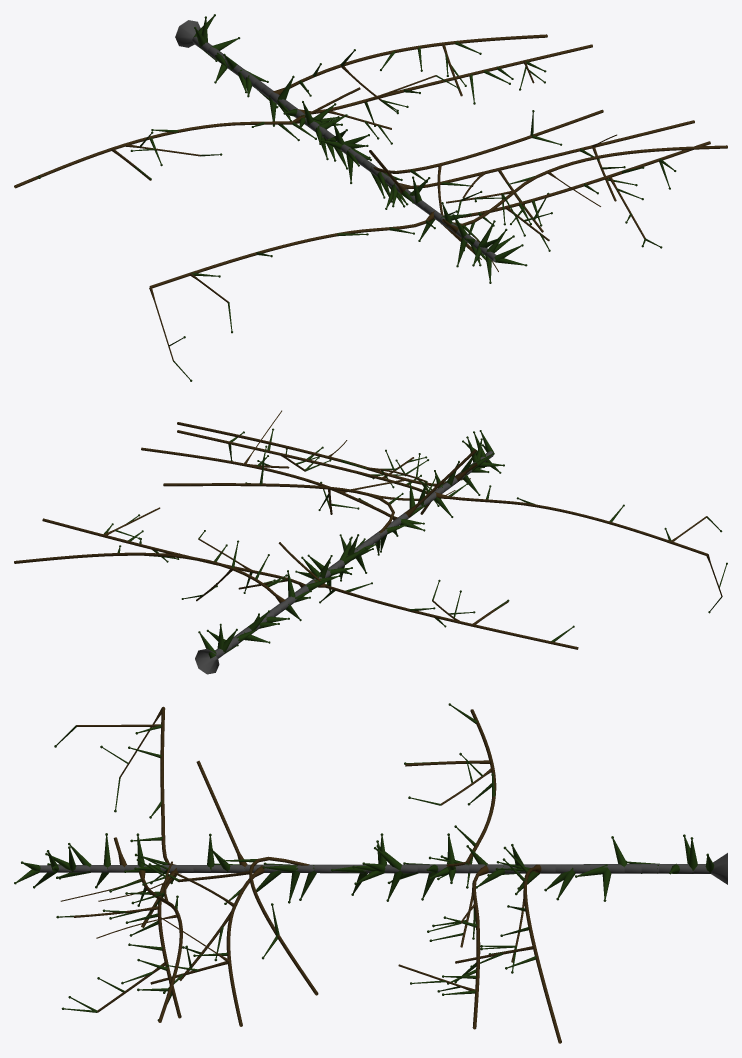
Rendered from tree_5.obj.
3 views of the same model, one above another, from view 1: azimuth 30°, elevation 25°; view 2: azimuth 150°, elevation 25°; view 3: azimuth 270°, elevation 25° (orthographic). The views are drawn at different scales.
Size of the model in its own units: 4.37 by 1.09 by 4.14.
